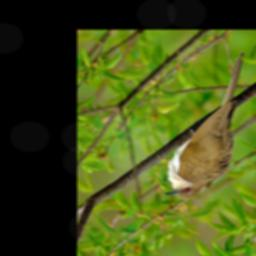Cuckoo: (163, 50, 246, 199)
